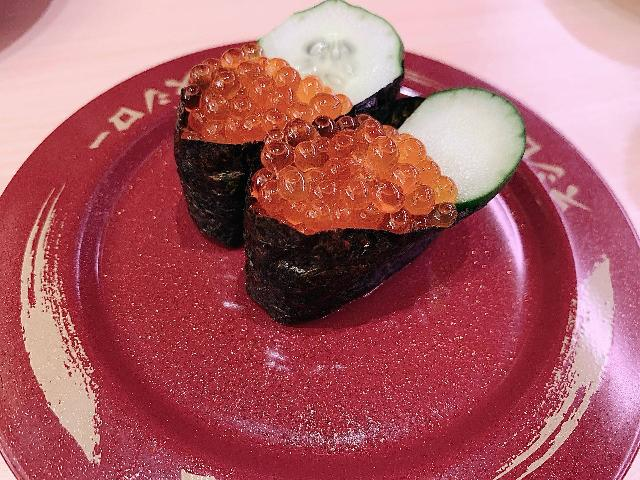janred: (43, 61, 629, 468)
